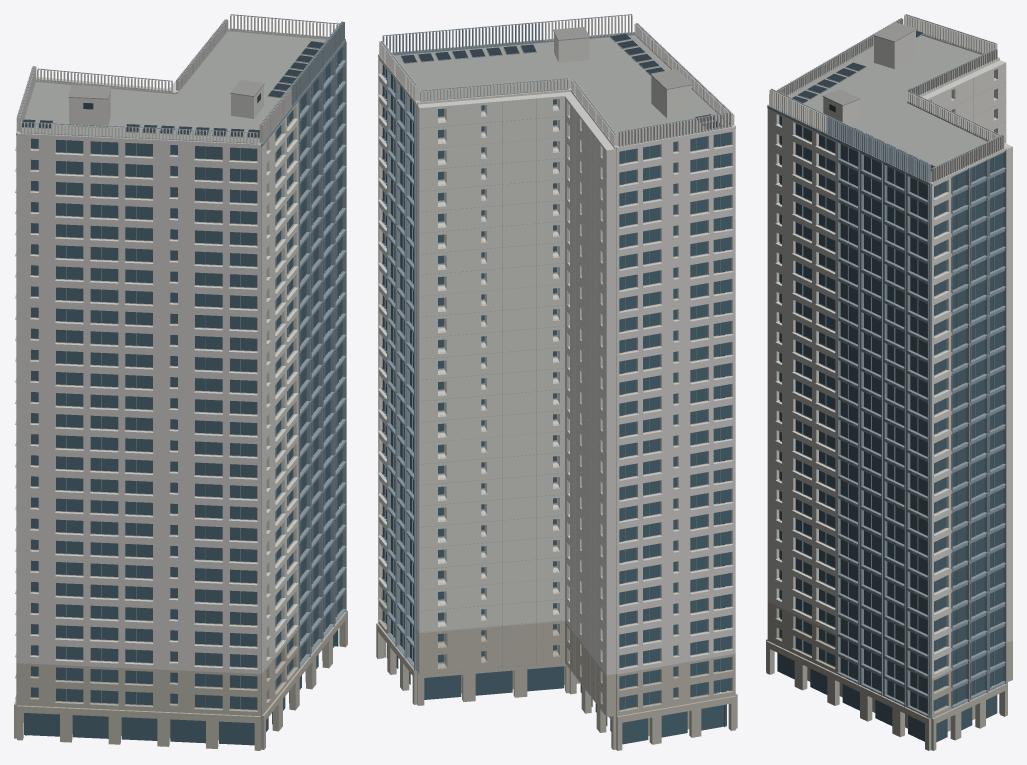
File: bespoke-maple-xi-102.glb
The picture shows the model from 3 angles, left to right: view 1: azimuth 30°, elevation 25°; view 2: azimuth 150°, elevation 25°; view 3: azimuth 270°, elevation 25°; orthographic projection. The views are drawn at different scales.
Visible parts, largest first — view 1: Maple102_numbered_plan_inset_body, Maple102_e0_end_glass, Maple102_e0_end_unequal_sash, Maple102_recessed_stone_lobby, Maple102_numbered_plan_roof, Maple102_PV_cells, Maple102_e1_cladding_joint; view 2: Maple102_numbered_plan_inset_body, Maple102_e0_end_glass, Maple102_e0_end_unequal_sash, Maple102_recessed_stone_lobby, Maple102_numbered_plan_roof, Maple102_e1_cladding_joint, Maple102_PV_cells; view 3: Maple102_e0_end_glass, Maple102_numbered_plan_inset_body, Maple102_e0_end_unequal_sash, Maple102_numbered_plan_roof, Maple102_recessed_stone_lobby, Maple102_e1_cladding_joint, Maple102_PV_cells.
Part boxes in pixels (x1,y1,x2,y2): Maple102_numbered_plan_inset_body: (15,14,342,710); Maple102_e0_end_glass: (24,47,342,745); Maple102_e0_end_unequal_sash: (18,14,346,709); Maple102_recessed_stone_lobby: (14,568,347,750); Maple102_numbered_plan_roof: (19,31,326,143); Maple102_PV_cells: (22,41,324,137); Maple102_e1_cladding_joint: (68,74,335,668); Maple102_numbered_plan_inset_body: (378,14,735,708); Maple102_e0_end_glass: (381,65,731,744); Maple102_e0_end_unequal_sash: (381,14,732,708); Maple102_recessed_stone_lobby: (376,581,737,750); Maple102_numbered_plan_roof: (394,35,729,146); Maple102_e1_cladding_joint: (419,27,692,716); Maple102_PV_cells: (401,33,722,128); Maple102_e0_end_glass: (777,115,1003,742); Maple102_numbered_plan_inset_body: (767,14,1012,693); Maple102_e0_end_unequal_sash: (767,14,1006,718); Maple102_numbered_plan_roof: (788,35,987,182); Maple102_recessed_stone_lobby: (766,601,1012,750); Maple102_e1_cladding_joint: (822,22,1005,716); Maple102_PV_cells: (792,30,935,171).
Size of the model in its own units: 51.29 by 89.67 by 33.84.
